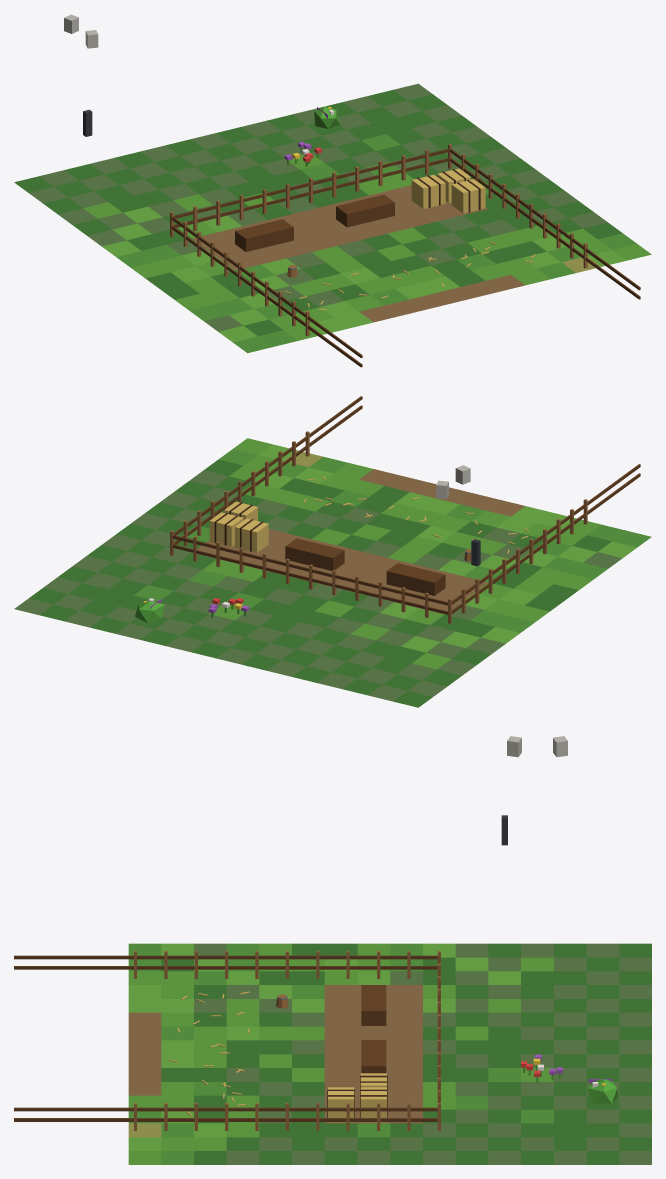
File: chunk_7_3.glb
3 views of the same model, one above another, from view 1: azimuth 30°, elevation 25°; view 2: azimuth 150°, elevation 25°; view 3: azimuth 270°, elevation 25° (orthographic). The views are drawn at different scales.
Parts seen in each view (by area): view 1: chunk_7_3; view 2: chunk_7_3; view 3: chunk_7_3.
Part boxes in pixels (box(x1,y1,x2,y2)): chunk_7_3: box(14, 14, 651, 367); chunk_7_3: box(14, 396, 651, 707); chunk_7_3: box(14, 736, 651, 1164).
Size of the model in its own units: 16 by 7.25 by 19.5.
